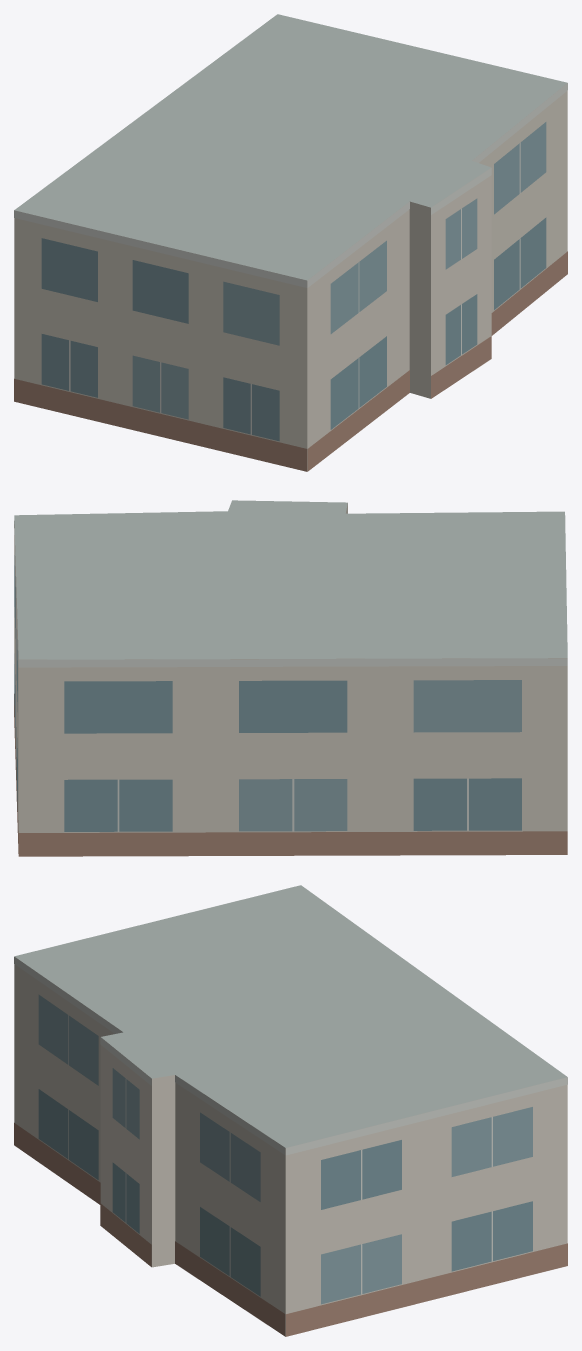
File: survey-upis-32527372.glb
The picture shows the model from 3 angles, top to bottom: view 1: azimuth 30°, elevation 25°; view 2: azimuth 150°, elevation 25°; view 3: azimuth 270°, elevation 25°; orthographic projection. The views are drawn at different scales.
Visible parts, largest first — view 1: survey-upis-32527372.tmp; view 2: survey-upis-32527372.tmp; view 3: survey-upis-32527372.tmp.
Part boxes in pixels (<box>): survey-upis-32527372.tmp: <box>14,14,567,471</box>; survey-upis-32527372.tmp: <box>14,500,567,856</box>; survey-upis-32527372.tmp: <box>14,885,567,1336</box>.
Size of the model in its own units: 18.23 by 6.1 by 16.22.
